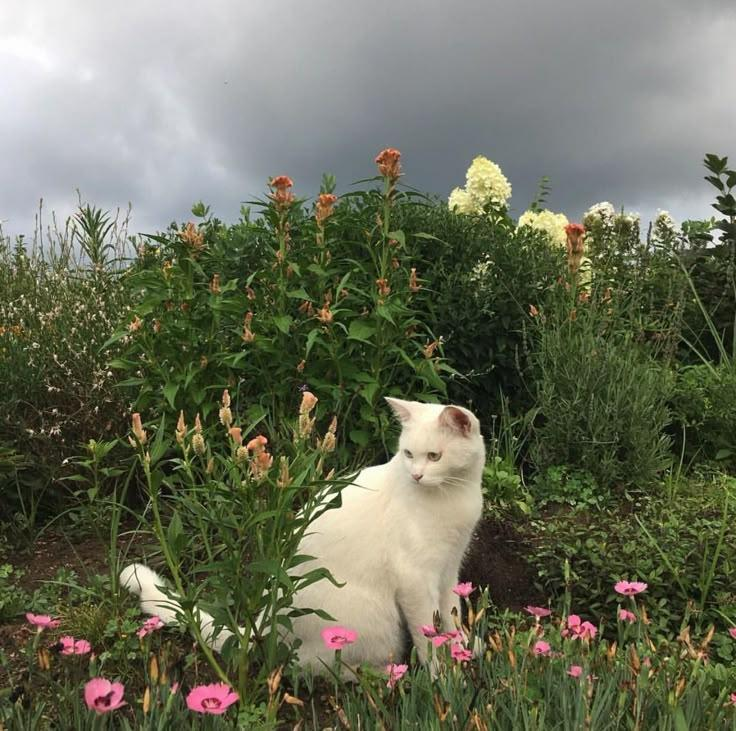kedo: (294, 395, 482, 671)
